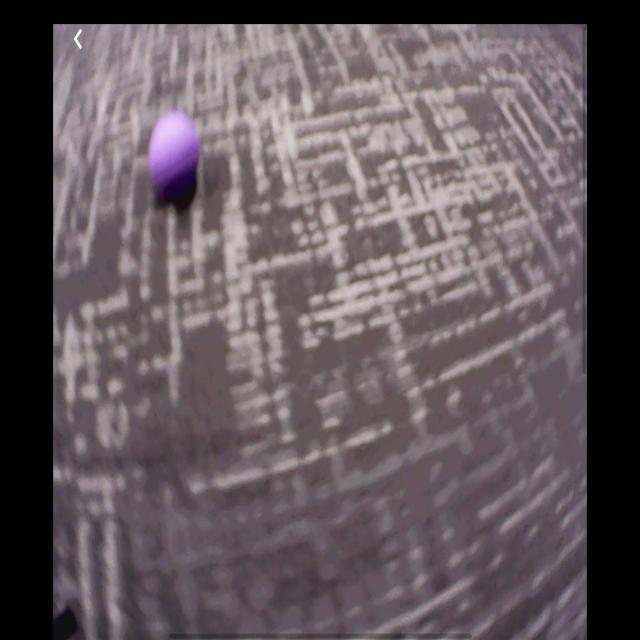ball: (149, 117, 203, 198)
